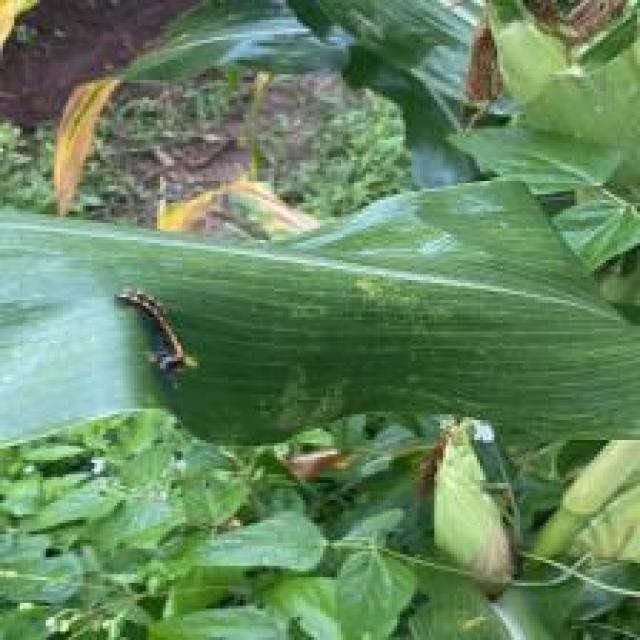Plaga: (96, 287, 216, 392)
